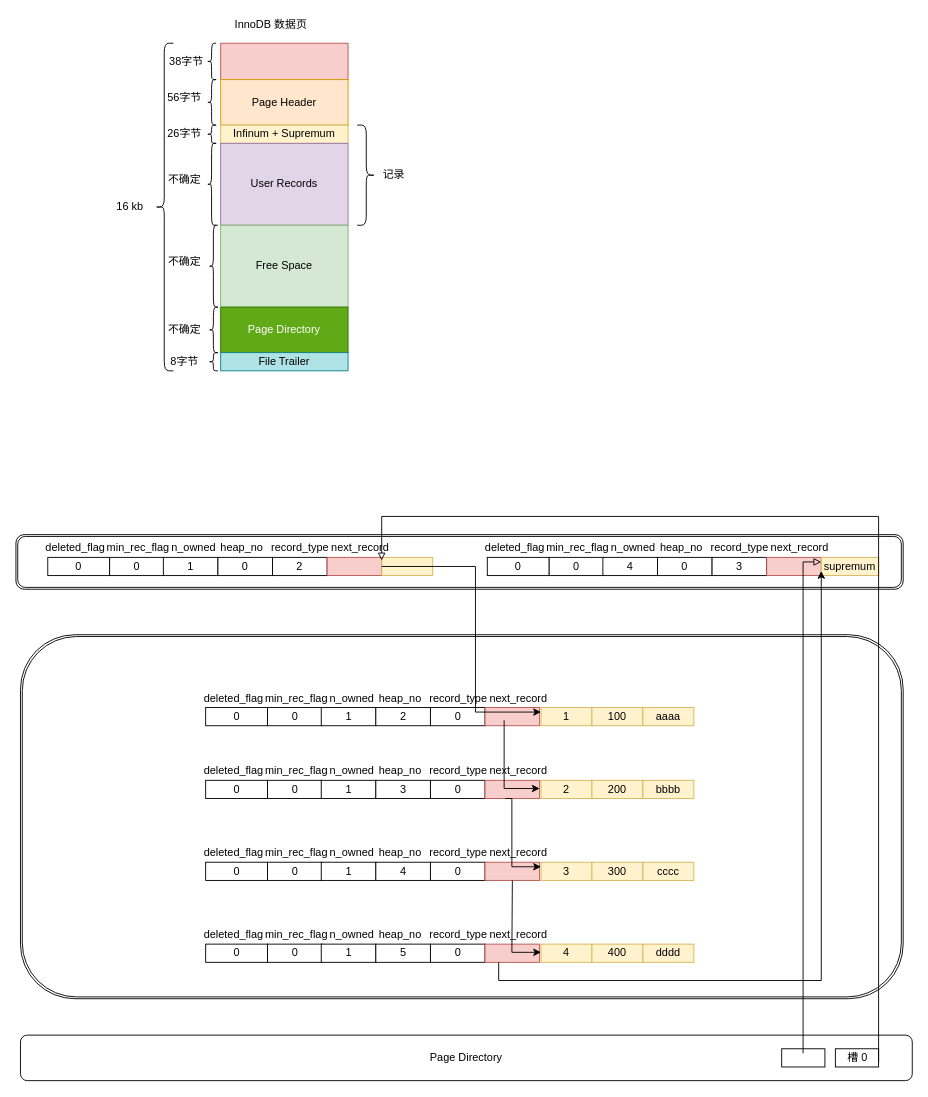
This 928x1097 diagram has some shape labels left out. Each missing label, with the centre of its shape:
File Header: (284,61)
infimum: (407,566)
槽 1: (803,1057)
